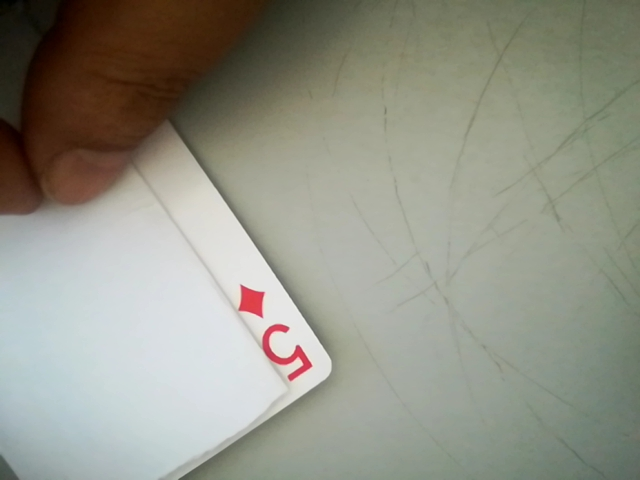fk 5: (226, 274, 327, 393)
